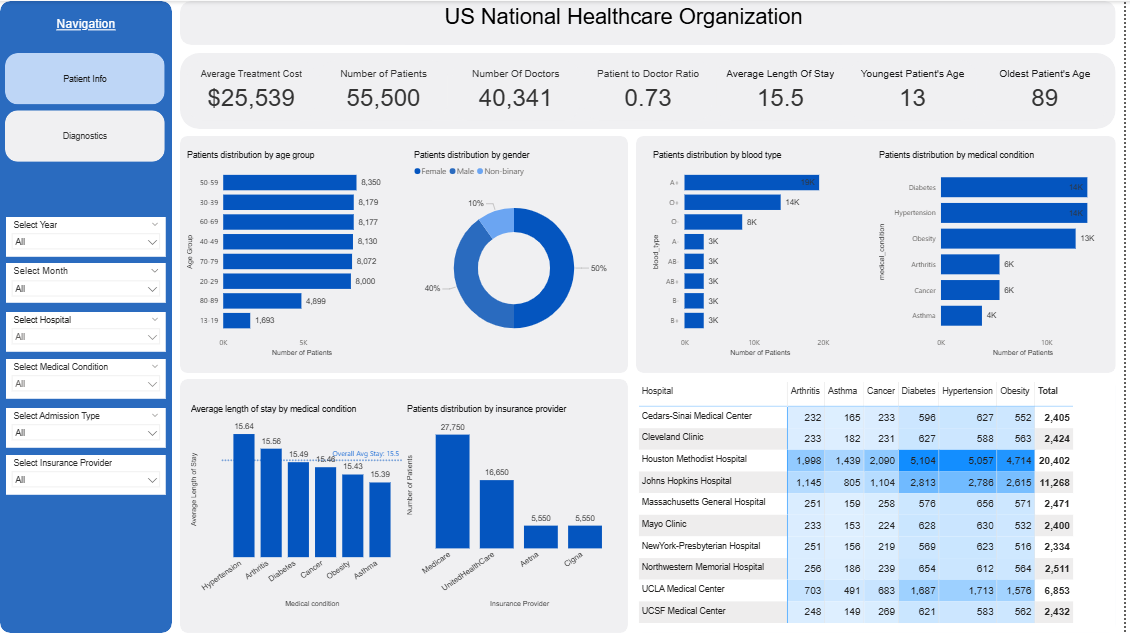

This screenshot's page, from the dashboard's own definition file:
{"tool":"powerbi","page":{"name":"Page 1","canvas":[1920,1080],"ordinal":0},"visuals":[{"type":"card","fields":{"Values":["_Measure.Average Billing Amount"]},"box":[0,15.4,252.9,126.5],"z":0},{"type":"card","fields":{"Values":["_Measure.Average Length Of Stay"]},"box":[247.8,6.8,223.9,143.5],"z":1000},{"type":"card","fields":{"Values":["_Measure.Number of Patients"]},"box":[458,6.8,276.8,143.5],"z":2000},{"type":"card","fields":{"Values":["_Measure.Number Of Doctors"]},"box":[697.2,6.8,222.2,143.5],"z":3000},{"type":"card","fields":{"Values":["_Measure.Patient to Doctor Ratio"]},"box":[946.7,15.4,222.2,143.5],"z":4000},{"type":"card","fields":{"Values":["Sum(_Measure.Average Age of Patient)"]},"box":[1647.3,15.4,222.2,143.5],"z":5000},{"type":"card","fields":{"Values":["_Measure.Oldest Age of Patient"]},"box":[1445.7,17.1,222.2,143.5],"z":6000},{"type":"card","fields":{"Values":["_Measure.Youngest Age of Patient"]},"box":[1187.7,15.4,223.9,145.3],"z":7000},{"type":"barChart","fields":{"Y":["_Measure.Number of Patients"],"Category":["public healthcare.age_group"]},"box":[0,278.5,430.6,364],"z":8000},{"type":"donutChart","fields":{"Y":["_Measure.Number of Patients"],"Category":["public healthcare.gender"]},"box":[458,278.5,411.8,364],"z":9000},{"type":"barChart","fields":{"Y":["_Measure.Number of Patients"],"Category":["public healthcare.blood_type"]},"box":[917.7,278.5,442.6,364],"z":10000},{"type":"barChart","fields":{"Category":["public healthcare.medical_condition"],"Y":["_Measure.Number of Patients"]},"box":[1396.1,278.5,473.4,364],"z":11000},{"type":"columnChart","fields":{"Category":["public healthcare.medical_condition"],"Y":["_Measure.Average Length Of Stay"]},"box":[6.8,671.6,430.6,364],"z":12000},{"type":"slicer","fields":{"Values":["Date Table.Year"]},"box":[15.4,158.9,273.4,68.4],"z":13000},{"type":"slicer","fields":{"Values":["public healthcare.admission_type"]},"box":[334.9,158.9,273.4,68.4],"z":14000},{"type":"columnChart","fields":{"Category":["public healthcare.medical_condition"],"Y":["_Measure.Average Billing Amount"]},"box":[471.6,671.6,446,364],"z":15000},{"type":"slicer","fields":{"Values":["public healthcare.insurance_provider"]},"box":[645.9,150.4,273.4,64.9],"z":16000},{"type":"barChart","fields":{"Category":["public healthcare.hospital"],"Y":["CountNonNull(public healthcare.hospital)"],"Series":["public healthcare.test_results"]},"box":[974.1,671.6,510.9,364],"z":17000},{"type":"clusteredBarChart","fields":{"Category":["public healthcare.test_results"],"Y":["_Measure.Number of Patients"]},"box":[1515.8,685.3,403.3,364],"z":18000},{"type":"slicer","fields":{"Values":["Date Table.Year"]},"box":[946.7,150.4,273.4,64.9],"z":19000},{"type":"slicer","fields":{"Values":["Date Table.Month"]},"box":[1283.4,150.4,273.4,64.9],"z":20000},{"type":"slicer","fields":{"Values":["public healthcare.medical_condition"]},"box":[1580.7,150.4,273.4,64.9],"z":21000}]}

Visuals, with their boxes in screenshot pixels (x1, y1, x2, y2), scaled from the page's 1920x1080 canvas onto the 1130x633 screenshot:
card - _Measure.Average Billing Amount: 0,9,149,83
card - _Measure.Average Length Of Stay: 146,4,278,88
card - _Measure.Number of Patients: 270,4,432,88
card - _Measure.Number Of Doctors: 410,4,541,88
card - _Measure.Patient to Doctor Ratio: 557,9,688,93
card - Sum(_Measure.Average Age of Patient): 970,9,1100,93
card - _Measure.Oldest Age of Patient: 851,10,982,94
card - _Measure.Youngest Age of Patient: 699,9,831,94
barChart - _Measure.Number of Patients x public healthcare.age_group: 0,163,253,377
donutChart - _Measure.Number of Patients x public healthcare.gender: 270,163,512,377
barChart - _Measure.Number of Patients x public healthcare.blood_type: 540,163,801,377
barChart - public healthcare.medical_condition x _Measure.Number of Patients: 822,163,1100,377
columnChart - public healthcare.medical_condition x _Measure.Average Length Of Stay: 4,394,257,607
slicer - Date Table.Year: 9,93,170,133
slicer - public healthcare.admission_type: 197,93,358,133
columnChart - public healthcare.medical_condition x _Measure.Average Billing Amount: 278,394,540,607
slicer - public healthcare.insurance_provider: 380,88,541,126
barChart - public healthcare.hospital x CountNonNull(public healthcare.hospital): 573,394,874,607
clusteredBarChart - public healthcare.test_results x _Measure.Number of Patients: 892,402,1129,615
slicer - Date Table.Year: 557,88,718,126
slicer - Date Table.Month: 755,88,916,126
slicer - public healthcare.medical_condition: 930,88,1091,126
